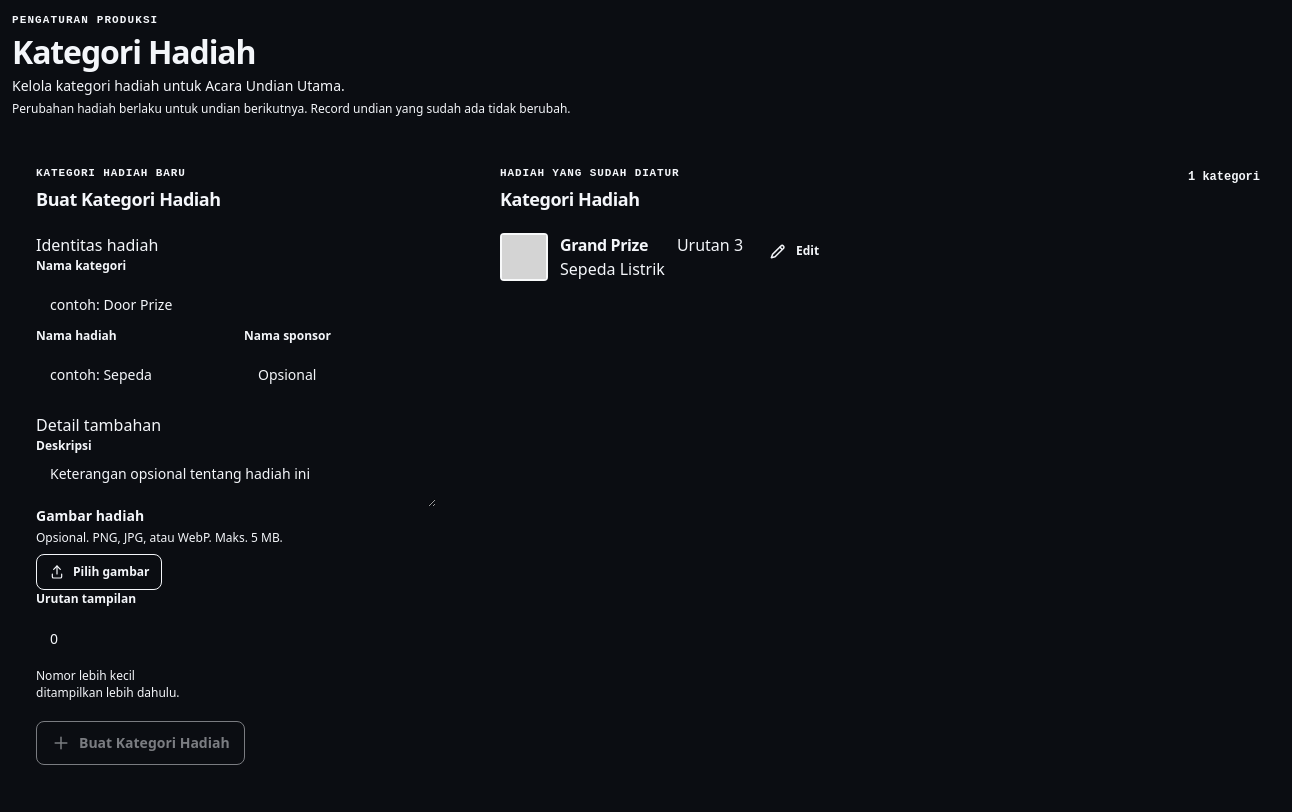
it: PrizeCategoriesPage image upload foundation › 13. edit button on list item with thumbnail populates form and works normally
Expected: the text "Sepeda Listrik" is shown, [560,257,665,281]
Note: Click edit on list item
Click the button "Edit": (794, 251) [755,233,832,269]
(page scrolled)
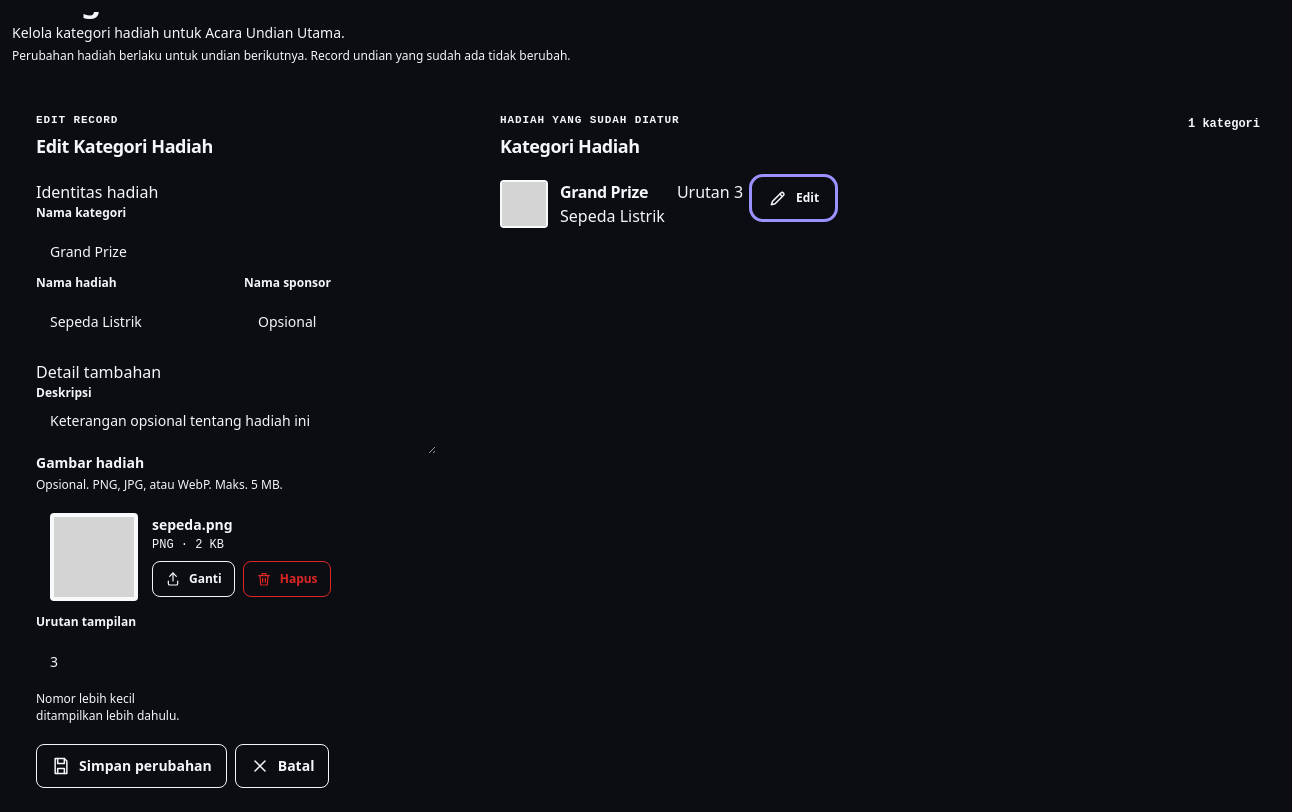
Now the field labelled "Nama kategori" holds "Grand Prize", box [36,230,436,274]
Now the field labelled "Nama hadiah" holds "Sepeda Listrik", box [36,300,228,344]
Now the button "Simpan perubahan" is shown, box [36,744,227,788]
